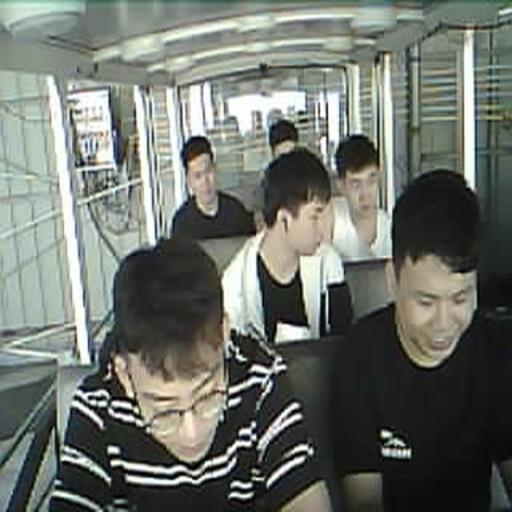persona: (48, 236, 335, 511), (330, 168, 512, 510), (220, 146, 355, 346), (168, 135, 257, 240), (331, 134, 394, 261), (268, 118, 298, 158)
